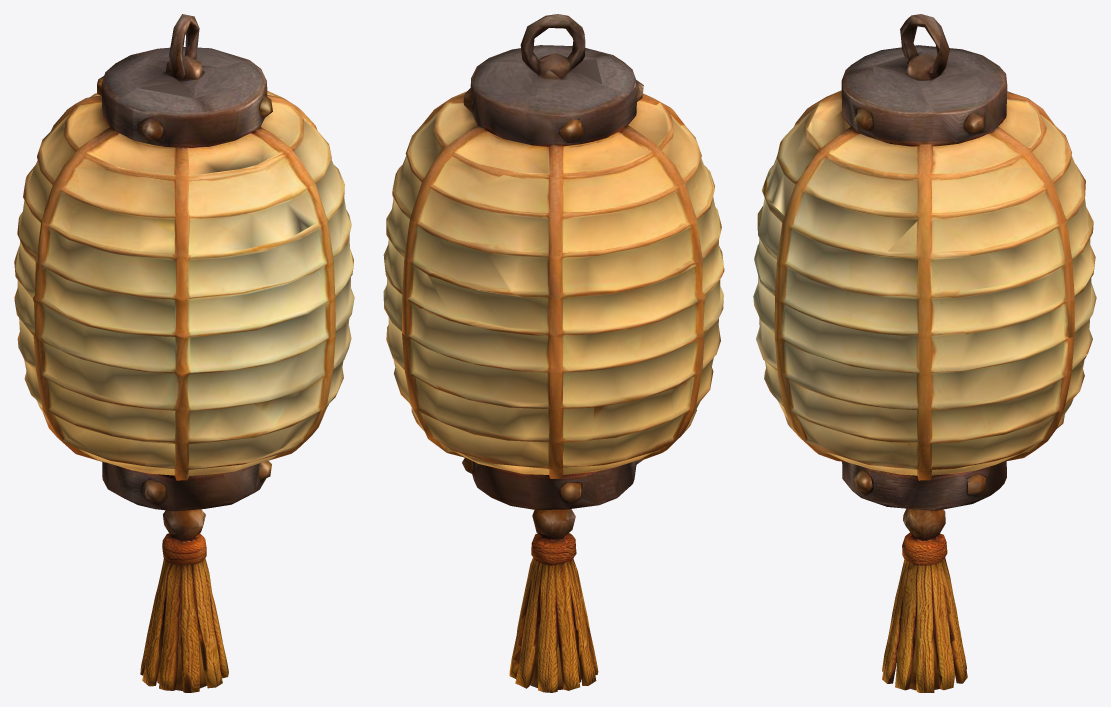
The model's file is lantern.glb.
3 views of the same model, side by side, from view 1: azimuth 30°, elevation 25°; view 2: azimuth 150°, elevation 25°; view 3: azimuth 270°, elevation 25° (orthographic).
Visible parts, largest first — view 1: tripo_node_d68767f4-5e8c-47f0-92f8-ccbc585efb96; view 2: tripo_node_d68767f4-5e8c-47f0-92f8-ccbc585efb96; view 3: tripo_node_d68767f4-5e8c-47f0-92f8-ccbc585efb96.
Part boxes in pixels (<box>): tripo_node_d68767f4-5e8c-47f0-92f8-ccbc585efb96: <box>14,14,354,692</box>; tripo_node_d68767f4-5e8c-47f0-92f8-ccbc585efb96: <box>383,14,724,692</box>; tripo_node_d68767f4-5e8c-47f0-92f8-ccbc585efb96: <box>753,14,1096,692</box>.
Size of the model in its own units: 0.2127 by 0.45 by 0.2108.
Materials: 1 (1 with a texture image).
